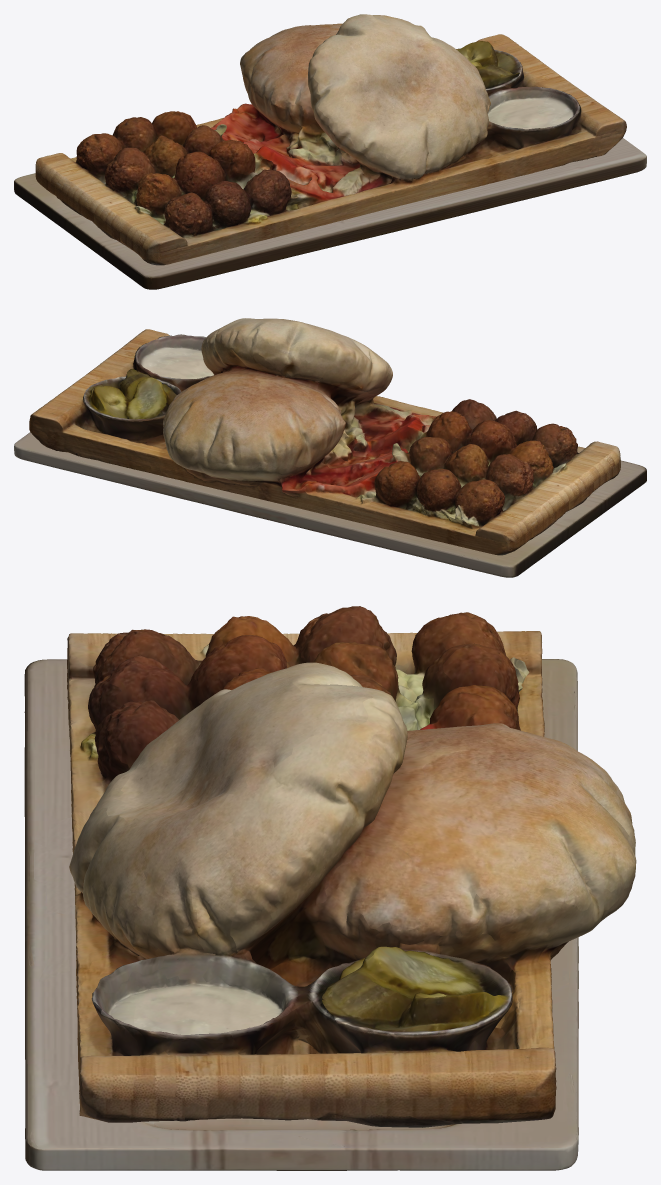
The model's file is falafel.01.glb.
3 renders of one model, top to bottom at view 1: azimuth 30°, elevation 25°; view 2: azimuth 150°, elevation 25°; view 3: azimuth 270°, elevation 25°, orthographic. The views are drawn at different scales.
Visible parts, largest first — view 1: /Root/Scenes/Scene/Object_108/Object_109/Submesh_0, /Root/Scenes/Scene/Object_108/Object_112/Object_113/Submesh_; view 2: /Root/Scenes/Scene/Object_108/Object_109/Submesh_0, /Root/Scenes/Scene/Object_108/Object_112/Object_113/Submesh_; view 3: /Root/Scenes/Scene/Object_108/Object_109/Submesh_0, /Root/Scenes/Scene/Object_108/Object_112/Object_113/Submesh_.
Part boxes in pixels (x1,y1,x2,y2): /Root/Scenes/Scene/Object_108/Object_109/Submesh_0: (35, 14, 626, 265); /Root/Scenes/Scene/Object_108/Object_112/Object_113/Submesh_: (14, 138, 646, 289); /Root/Scenes/Scene/Object_108/Object_109/Submesh_0: (29, 318, 620, 555); /Root/Scenes/Scene/Object_108/Object_112/Object_113/Submesh_: (14, 432, 646, 577); /Root/Scenes/Scene/Object_108/Object_109/Submesh_0: (67, 606, 636, 1127); /Root/Scenes/Scene/Object_108/Object_112/Object_113/Submesh_: (24, 659, 578, 1170).
Size of the model in its own units: 0.406 by 0.109 by 0.2139.
Materials: 2 (2 with a texture image).
